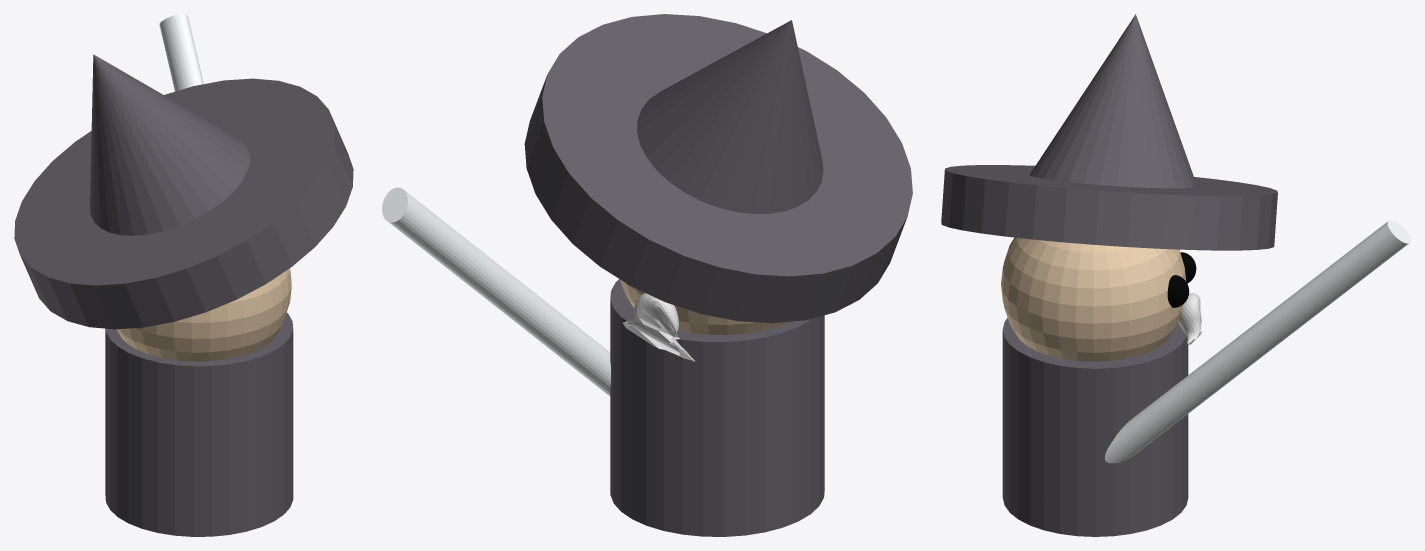
Rendered from wizord_gandalf.glb.
3 renders of one model, left to right at view 1: azimuth 30°, elevation 25°; view 2: azimuth 150°, elevation 25°; view 3: azimuth 270°, elevation 25°, orthographic. The views are drawn at different scales.
Parts seen in each view (by area): view 1: Cylinder.001, Cylinder, Cone, Sphere, Cylinder.002; view 2: Cylinder.001, Cylinder, Cone, Cylinder.002, Sphere.003, Sphere; view 3: Cylinder, Cylinder.001, Sphere, Cone, Cylinder.002, Sphere.003, Sphere.002.
Boxes of the visible parts, x1=… form: Cylinder.001: x1=14, y1=78, x2=353, y2=329; Cylinder: x1=105, y1=312, x2=293, y2=536; Cone: x1=90, y1=54, x2=250, y2=235; Sphere: x1=116, y1=268, x2=291, y2=361; Cylinder.002: x1=159, y1=14, x2=203, y2=91; Cylinder.001: x1=524, y1=14, x2=912, y2=323; Cylinder: x1=610, y1=279, x2=824, y2=536; Cone: x1=637, y1=20, x2=823, y2=213; Cylinder.002: x1=382, y1=187, x2=610, y2=396; Sphere.003: x1=623, y1=293, x2=695, y2=361; Sphere: x1=620, y1=279, x2=789, y2=335; Cylinder: x1=1002, y1=318, x2=1188, y2=536; Cylinder.001: x1=941, y1=165, x2=1277, y2=250; Sphere: x1=1001, y1=237, x2=1186, y2=361; Cone: x1=1029, y1=14, x2=1196, y2=188; Cylinder.002: x1=1104, y1=220, x2=1410, y2=463; Sphere.003: x1=1178, y1=293, x2=1201, y2=344; Sphere.002: x1=1167, y1=275, x2=1189, y2=307.
Size of the model in its own units: 3.6 by 5.26 by 5.06.
